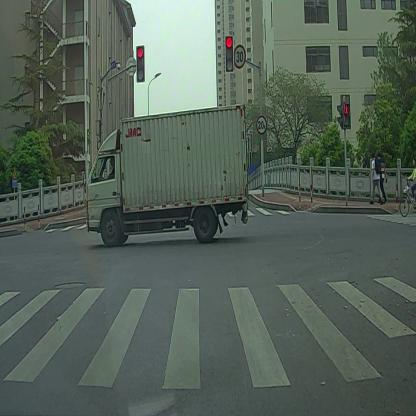Red Light: (224, 35, 235, 72), (136, 44, 146, 84)
Speed Limit 30: (234, 42, 246, 71)
